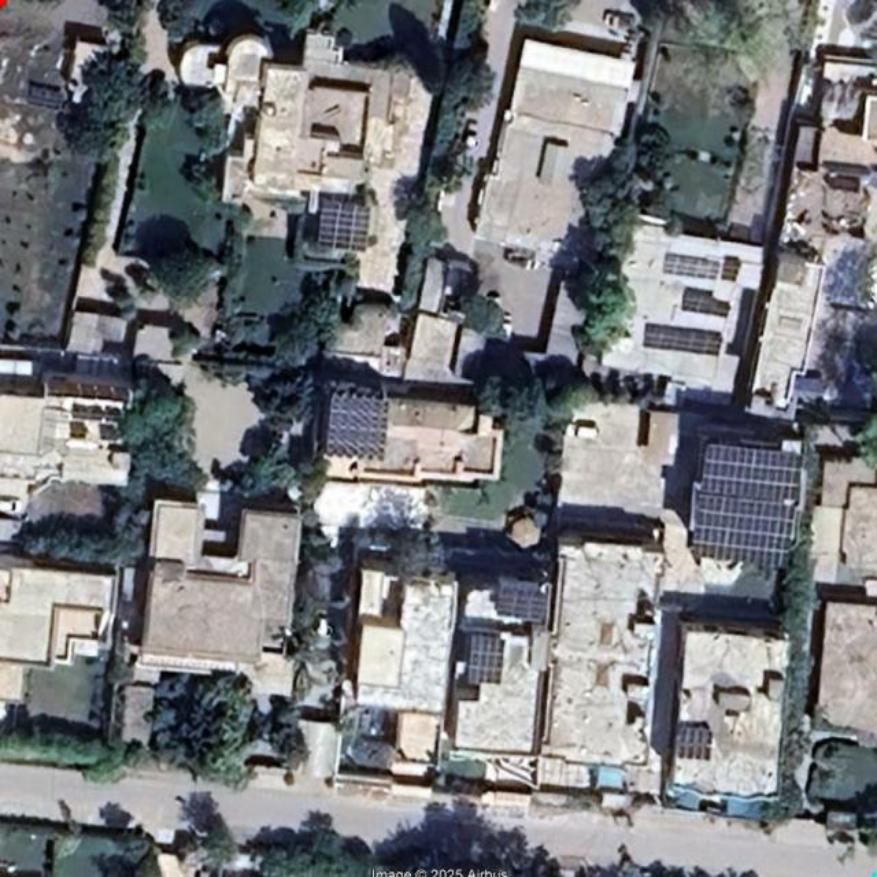Solarpanel: (694, 443, 800, 565), (330, 394, 389, 459), (318, 203, 372, 252), (645, 325, 724, 354), (498, 585, 548, 621), (468, 634, 503, 685), (660, 253, 718, 280), (678, 726, 714, 756), (28, 85, 65, 112)
